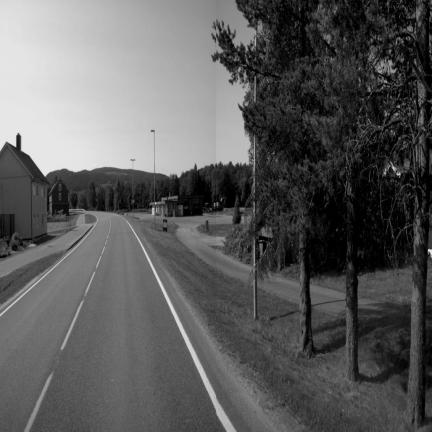Road: (0, 214, 268, 430)
